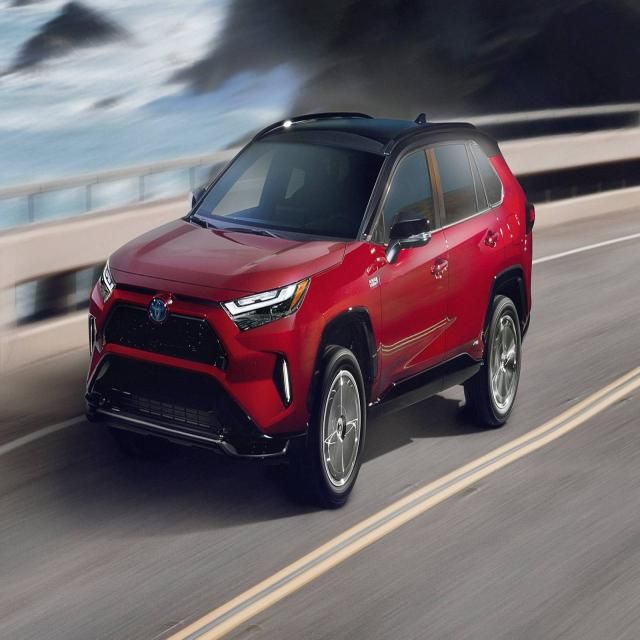light_vehicle: (84, 111, 536, 509)
